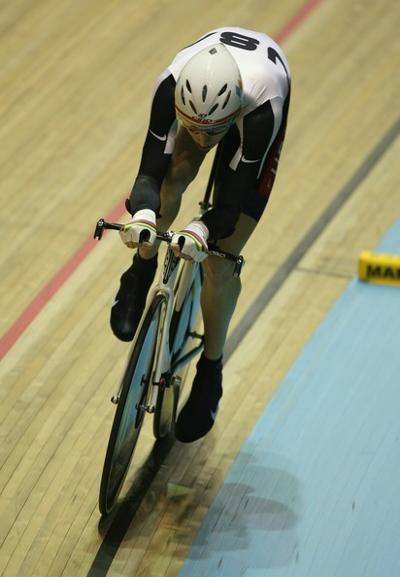person: (110, 28, 293, 447)
